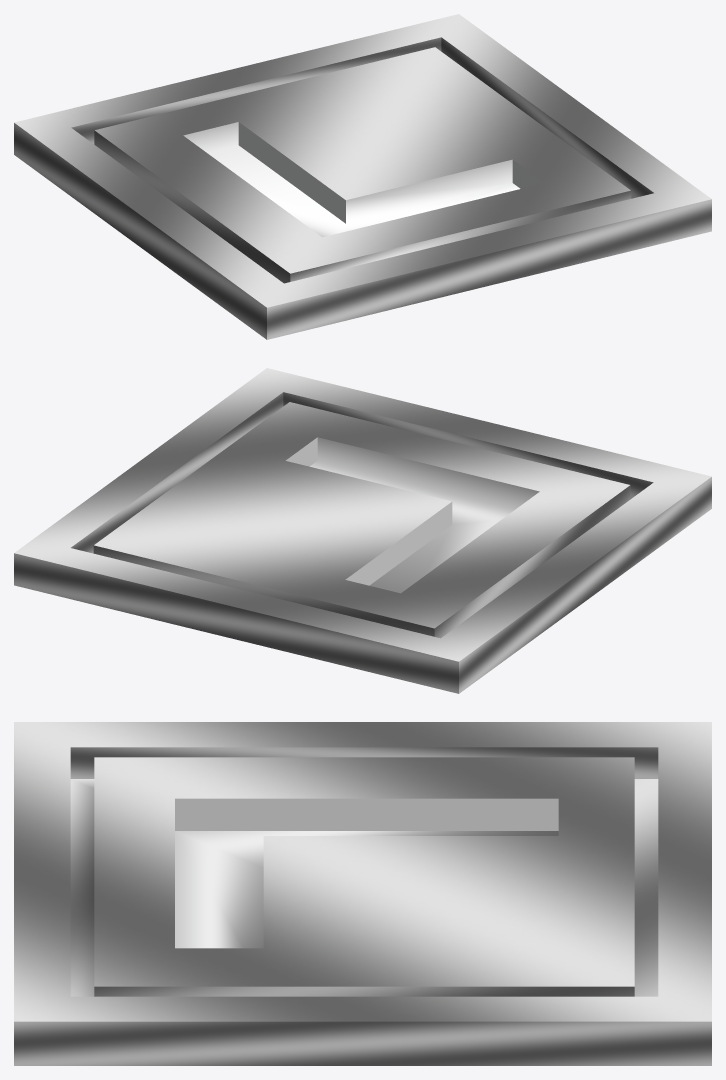
File: ButtonL.FBX
The picture shows the model from 3 angles, top to bottom: view 1: azimuth 30°, elevation 25°; view 2: azimuth 150°, elevation 25°; view 3: azimuth 270°, elevation 25°; orthographic projection. The views are drawn at different scales.
Parts seen in each view (by area): view 1: Box001; view 2: Box001; view 3: Box001.
Boxes of the visible parts, x1,y1,x2,y2 form: Box001: (14, 14, 711, 339); Box001: (14, 368, 711, 693); Box001: (14, 722, 711, 1065).
Size of the model in its own units: 120 by 8.3 by 118.
Materials: 1 (1 with a texture image).
